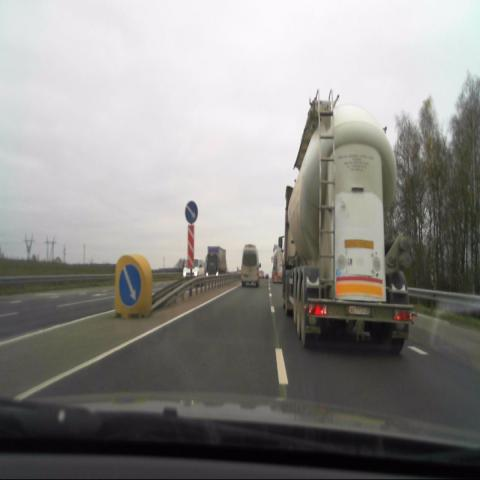4_2_1: (118, 265, 141, 306)
